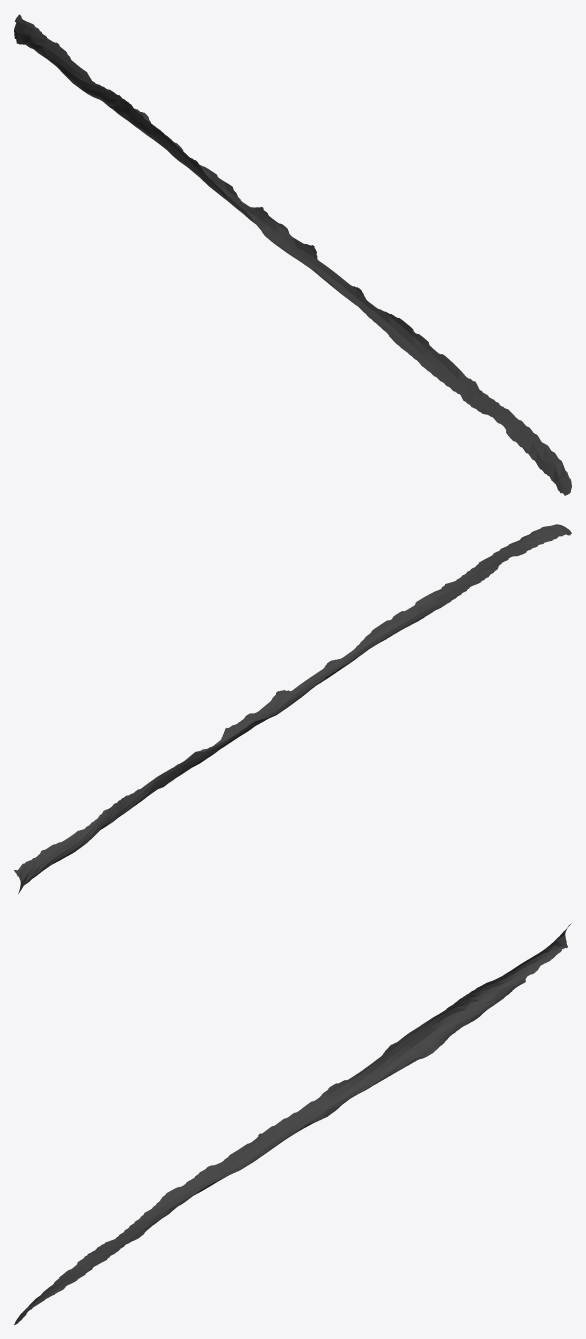
The model's file is a_median.glb.
3 views of the same model, one above another, from view 1: azimuth 30°, elevation 25°; view 2: azimuth 150°, elevation 25°; view 3: azimuth 330°, elevation 25° (orthographic). The views are drawn at different scales.
Visible parts, largest first — view 1: a_median; view 2: a_median; view 3: a_median.
Part boxes in pixels (x1=…): a_median: x1=14, y1=14, x2=571, y2=495; a_median: x1=14, y1=524, x2=571, y2=893; a_median: x1=14, y1=923, x2=571, y2=1324.
Bounding box in the file's own units: 0.0186 × 0.0112 × 0.3225.
Materials: 1 (1 with a texture image).
